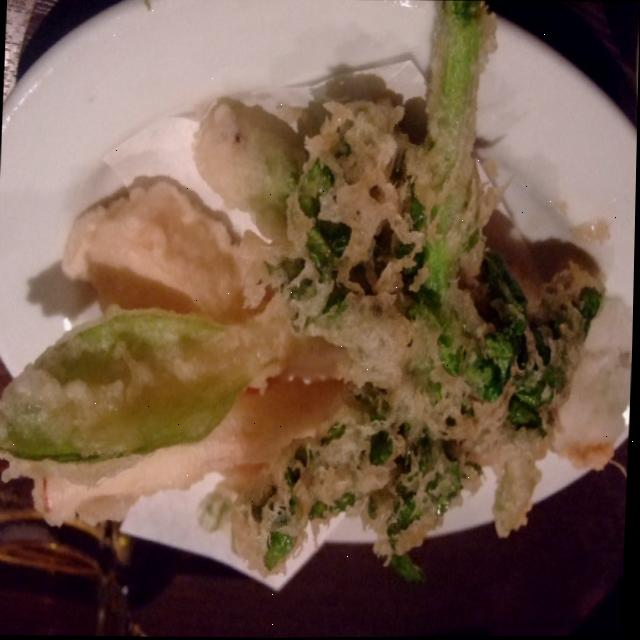蔬菜料理: (0, 0, 606, 640)
